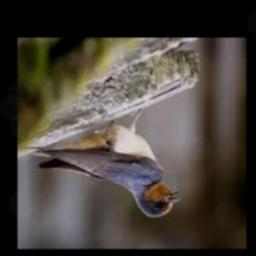Swallow: (32, 108, 181, 216)
